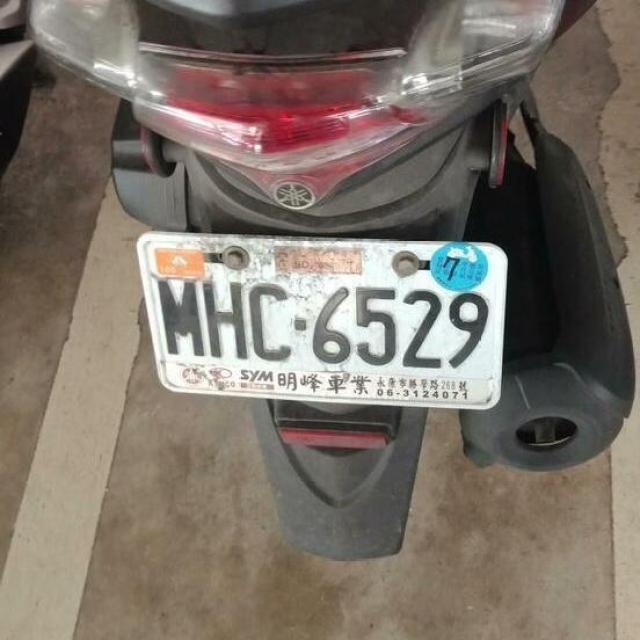W: (128, 208, 518, 429)
